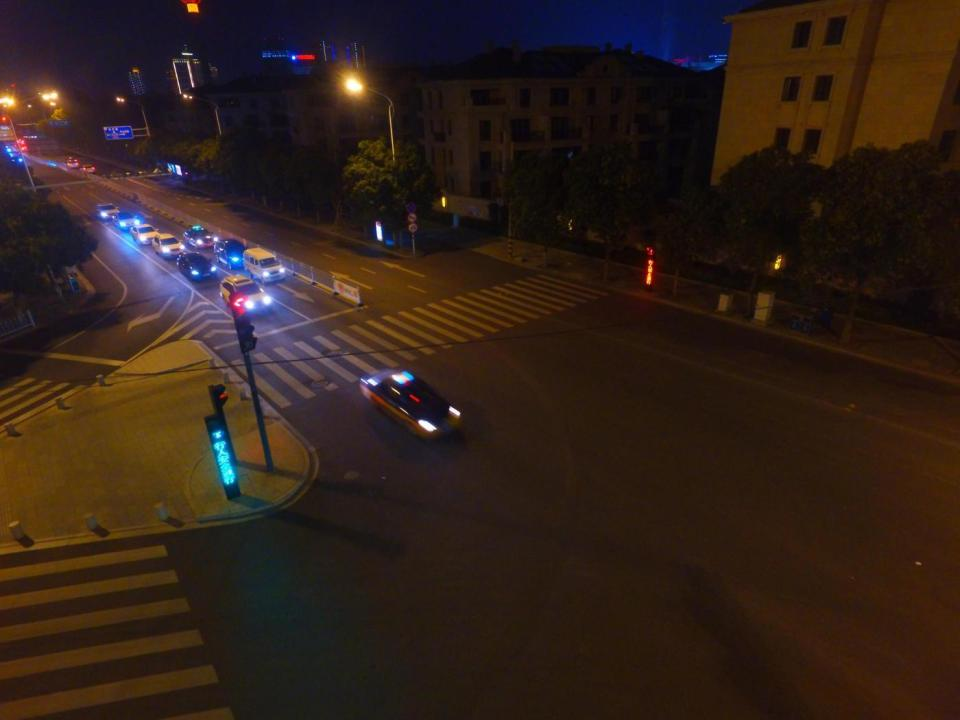car: (358, 368, 460, 439), (220, 275, 274, 317), (177, 253, 214, 283), (150, 234, 185, 260), (185, 227, 217, 249), (115, 211, 140, 232), (132, 225, 158, 245), (95, 204, 119, 222), (78, 165, 95, 175), (66, 157, 78, 169)
van: (242, 248, 286, 281), (215, 237, 252, 270)
